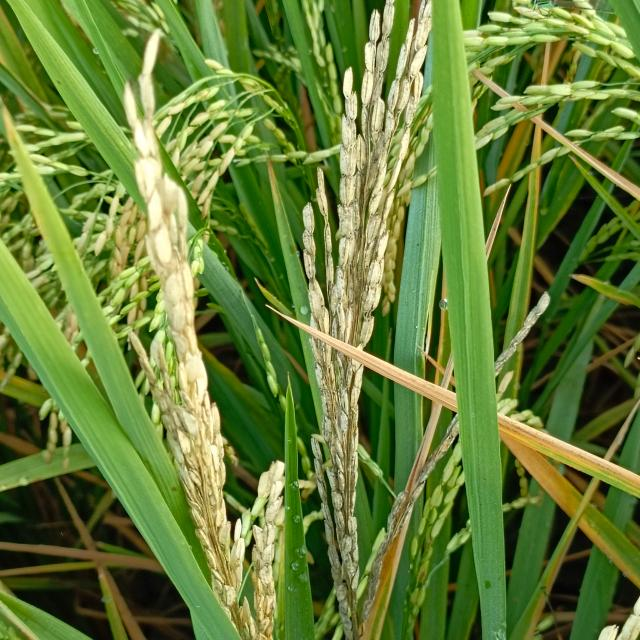Brown spot: (508, 418, 573, 499), (371, 344, 430, 394), (577, 445, 638, 490), (261, 300, 305, 338), (592, 150, 630, 193)
insects: (166, 480, 180, 498), (415, 242, 422, 249)
